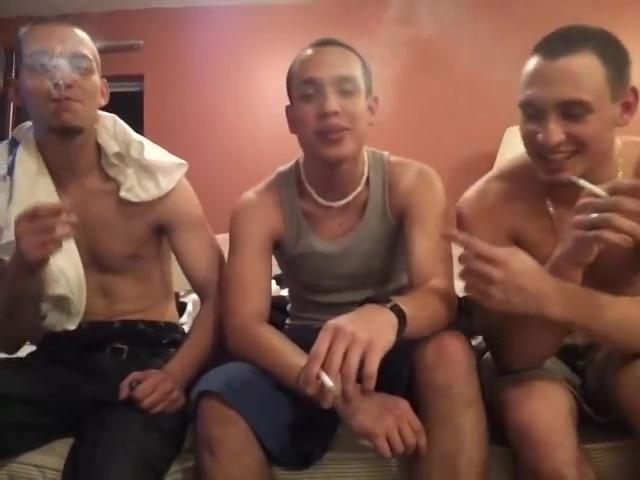cigarette: (566, 175, 617, 203), (317, 362, 340, 396), (56, 76, 68, 106)
